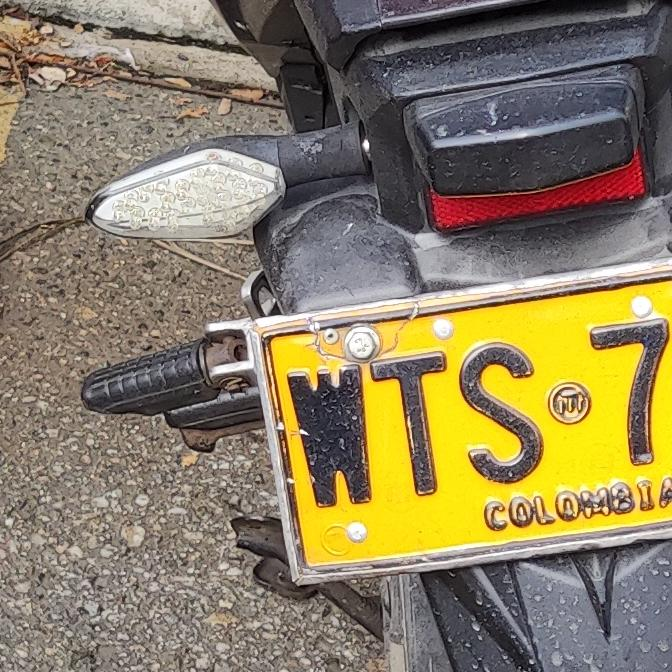plates: (246, 257, 672, 600)
